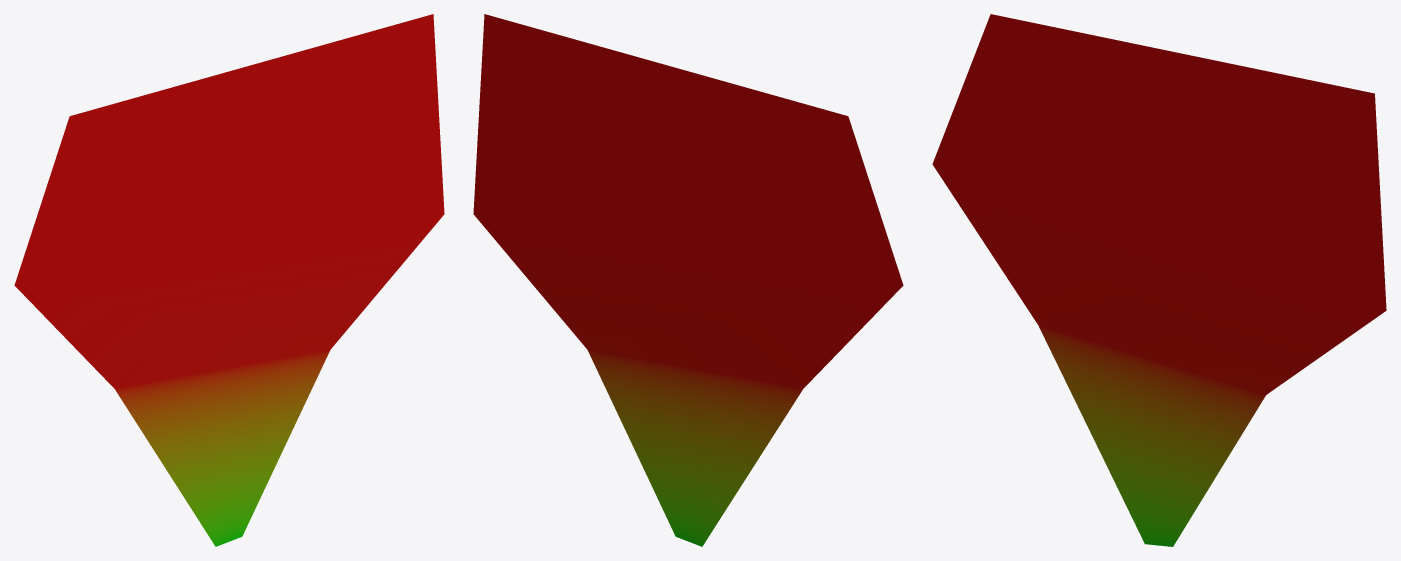
File: Chamomile_LOD4_Var3.fbx
The picture shows the model from 3 angles, left to right: view 1: azimuth 30°, elevation 25°; view 2: azimuth 150°, elevation 25°; view 3: azimuth 330°, elevation 25°; orthographic projection. The views are drawn at different scales.
Visible parts, largest first — view 1: _e10q_Var3_LOD4; view 2: _e10q_Var3_LOD4; view 3: _e10q_Var3_LOD4.
Boxes of the visible parts, <box> form: _e10q_Var3_LOD4: <box>14,14,444,546</box>; _e10q_Var3_LOD4: <box>473,14,903,546</box>; _e10q_Var3_LOD4: <box>932,14,1386,546</box>.
Bounding box in the file's own units: 56.03 × 59.75 × 7.12e-06.
